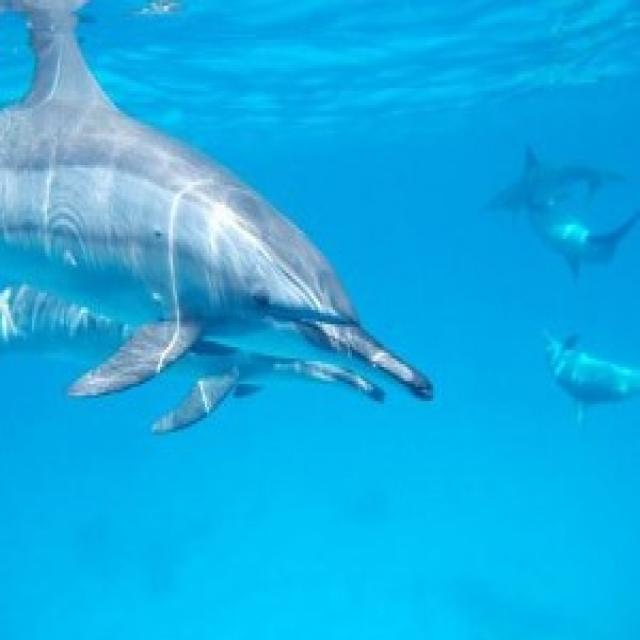Dolphin: (0, 0, 440, 421), (154, 349, 403, 449), (485, 175, 640, 290), (528, 333, 640, 425)
